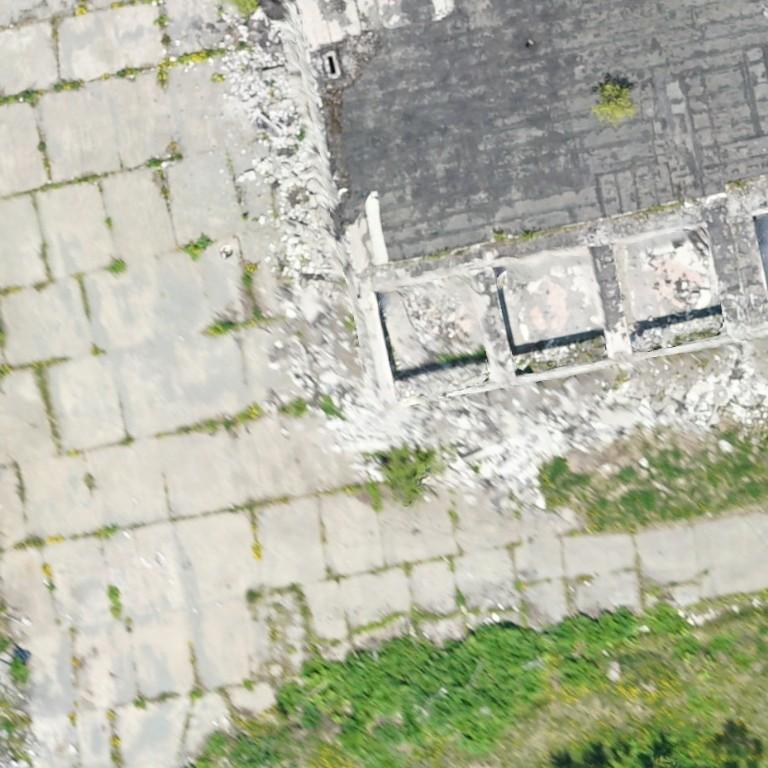hogweed: (280, 607, 632, 742)
